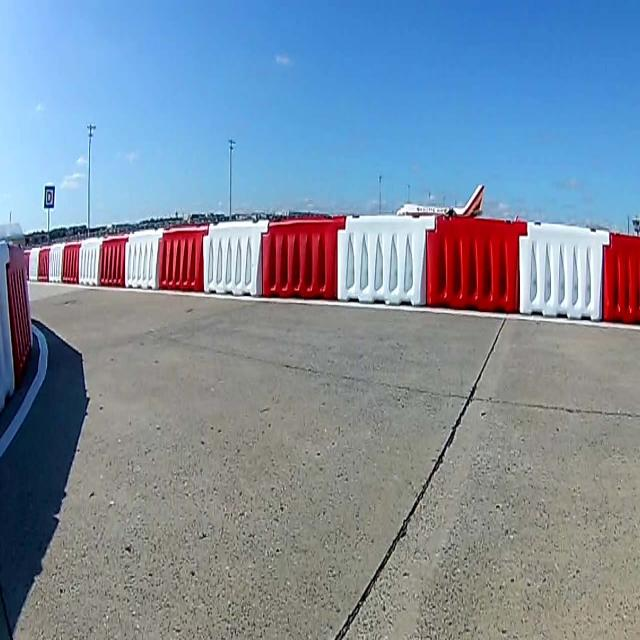durak: (44, 187, 54, 209)
